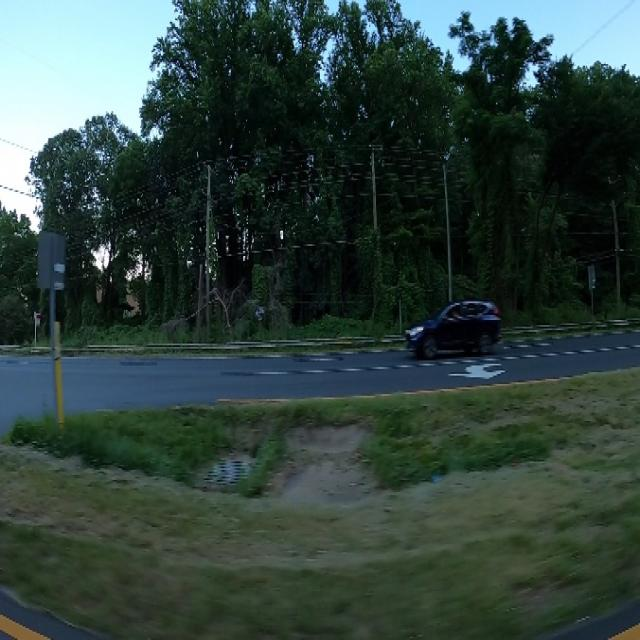car: (402, 293, 504, 369)
